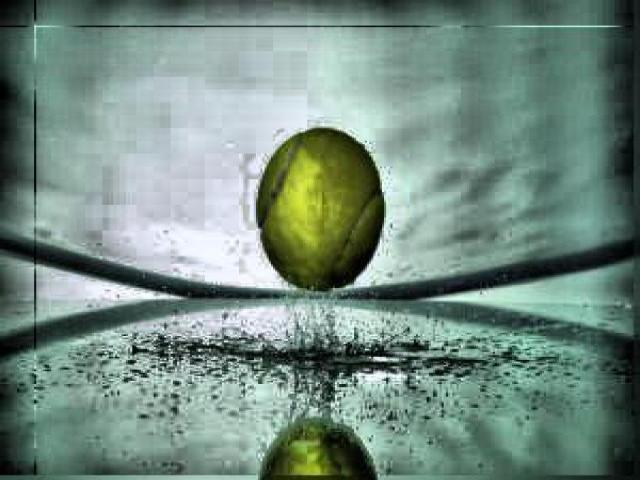tennis-ball: (256, 125, 384, 293), (260, 420, 378, 478)
